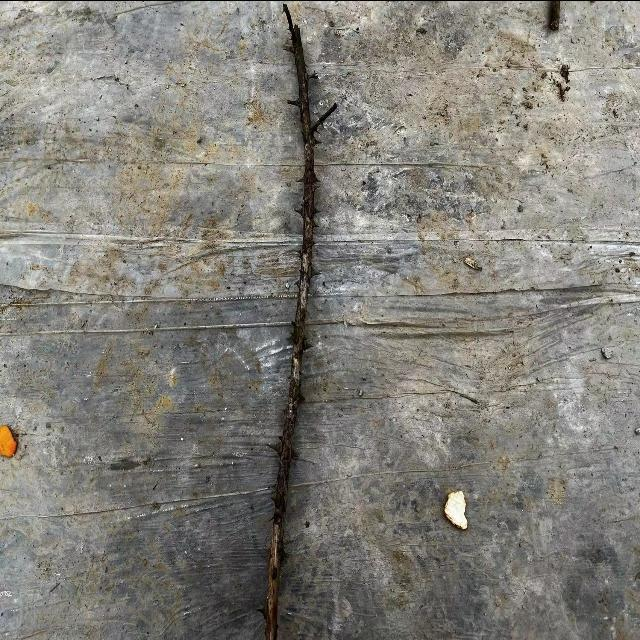branch: (266, 20, 318, 640)
